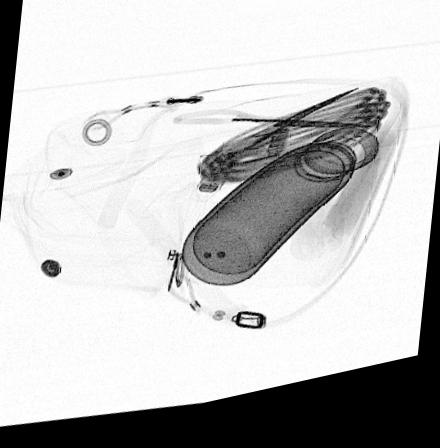Scissors: (170, 102, 374, 191)
